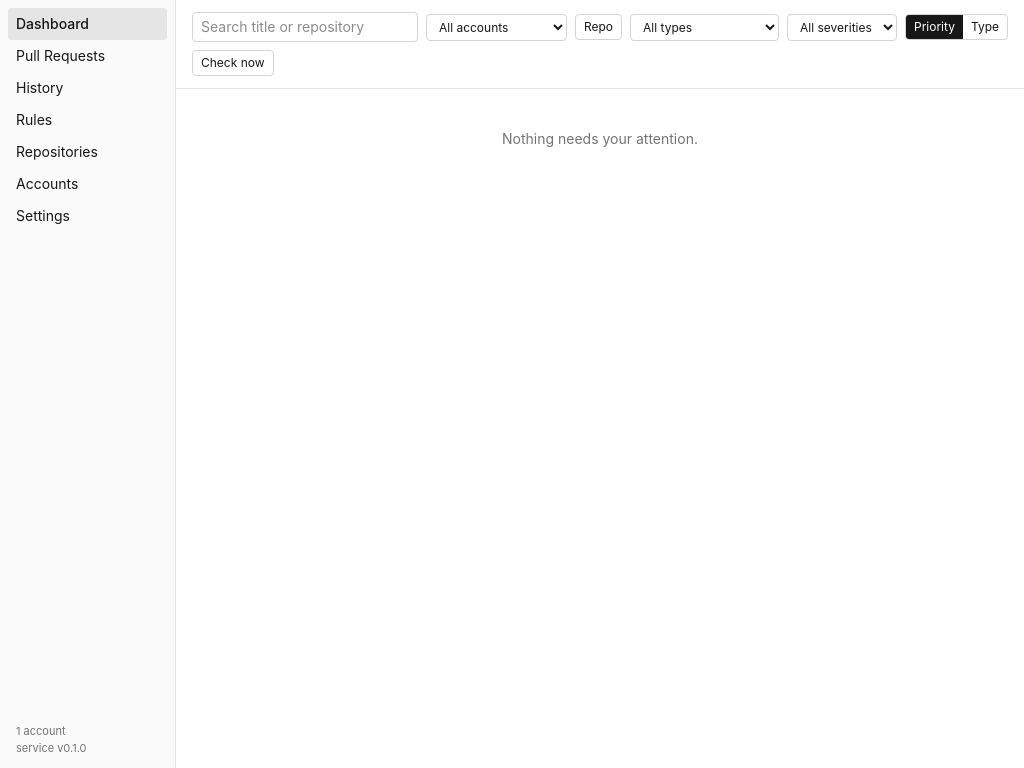
Scenario: App navigation › renders the Settings view when its nav item is clicked
Click the button "Settings": coordinates (88, 216) [8,200,167,232]
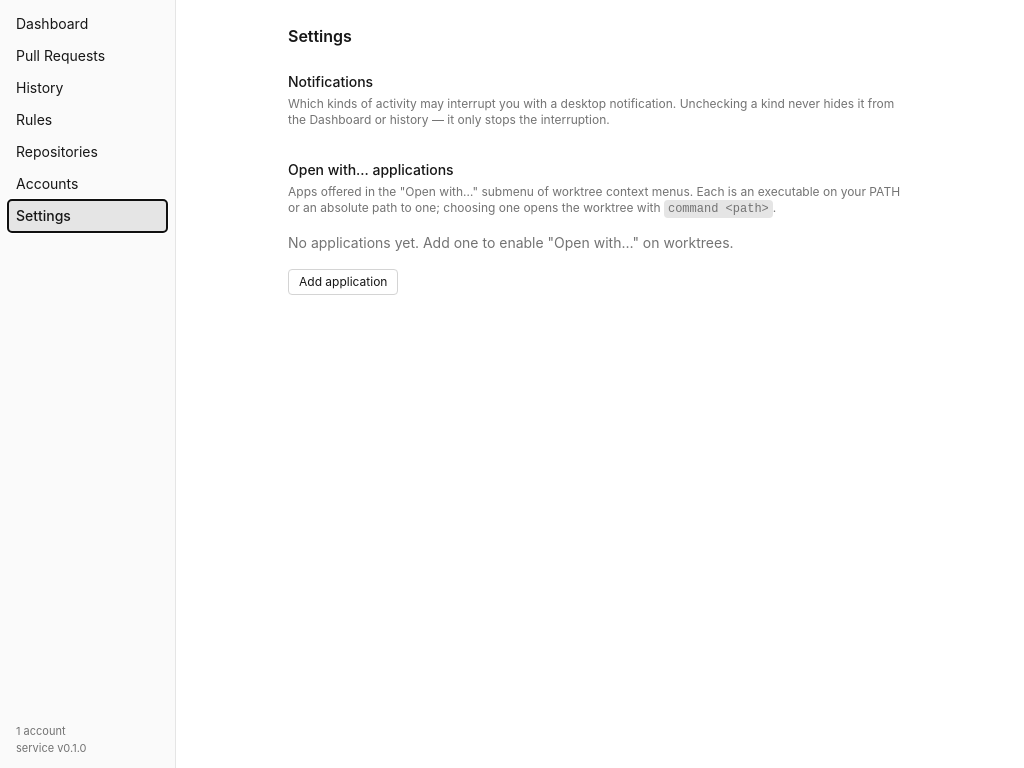
Result: the heading "Open with… applications" is shown at [288,161,454,178]
